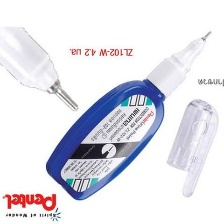correction_fluid: (43, 27, 215, 203)
